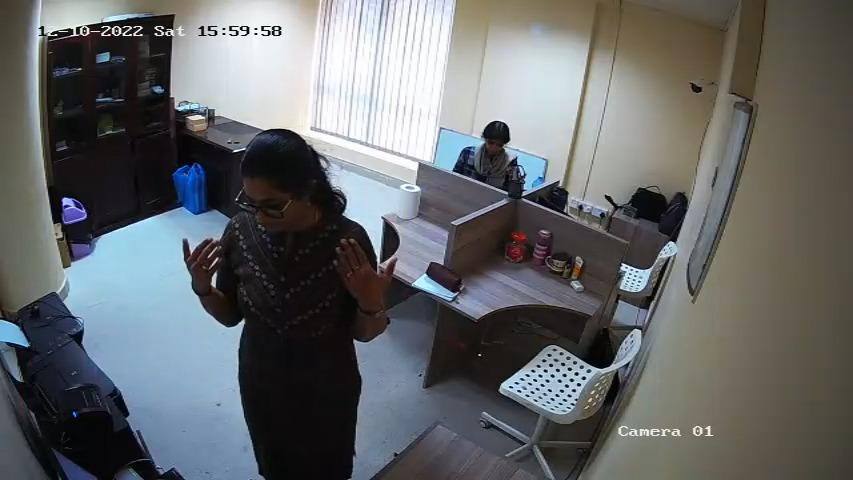no_gloves: (332, 235, 397, 308), (176, 239, 224, 292)
